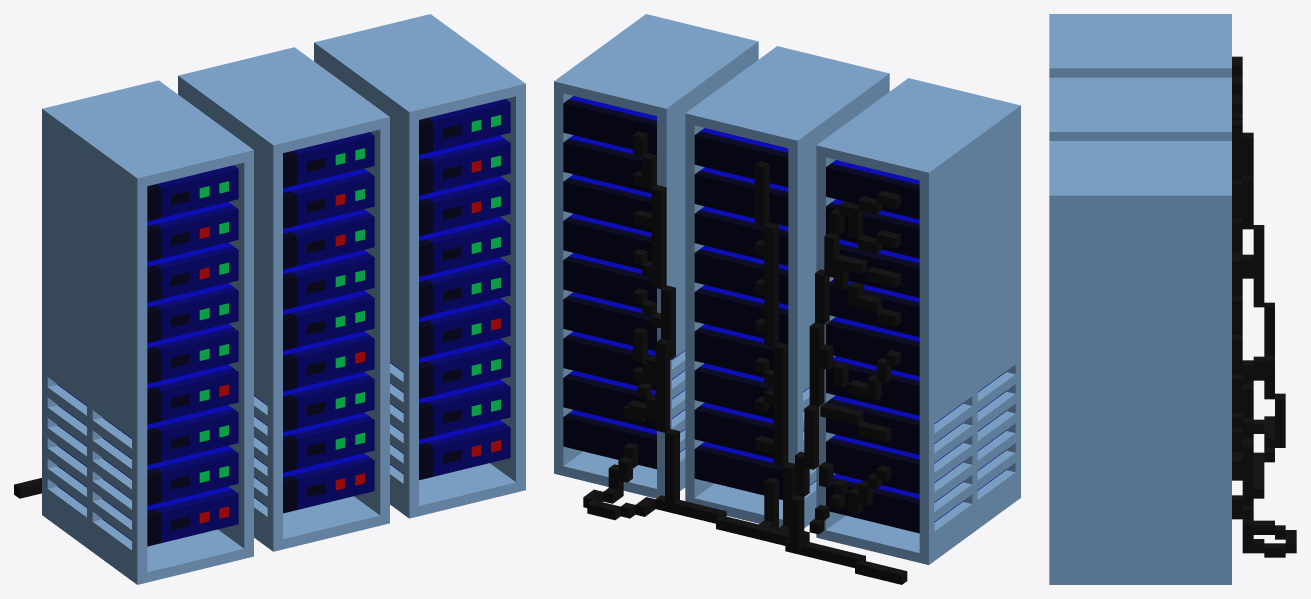
File: server.glb
3 views of the same model, side by side, from view 1: azimuth 30°, elevation 25°; view 2: azimuth 150°, elevation 25°; view 3: azimuth 270°, elevation 25° (orthographic). The views are drawn at different scales.
Parts seen in each view (by area): view 1: model; view 2: model; view 3: model.
Part boxes in pixels (left/top/right/bottom): model: left=14, top=14, right=525, bottom=584; model: left=554, top=14, right=1020, bottom=584; model: left=1049, top=14, right=1296, bottom=584.
Size of the model in its own units: 4 by 4 by 2.3.
